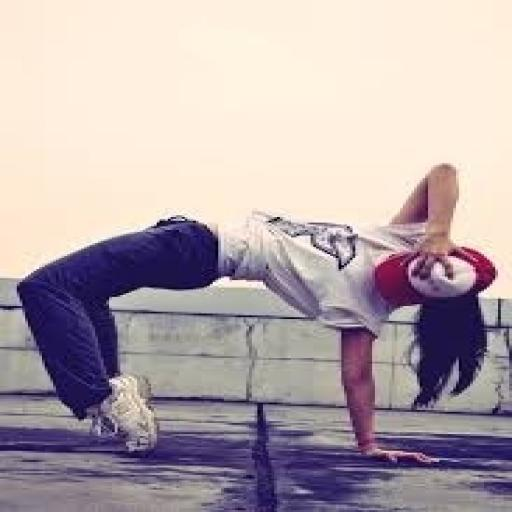dancing: (14, 162, 501, 468)
